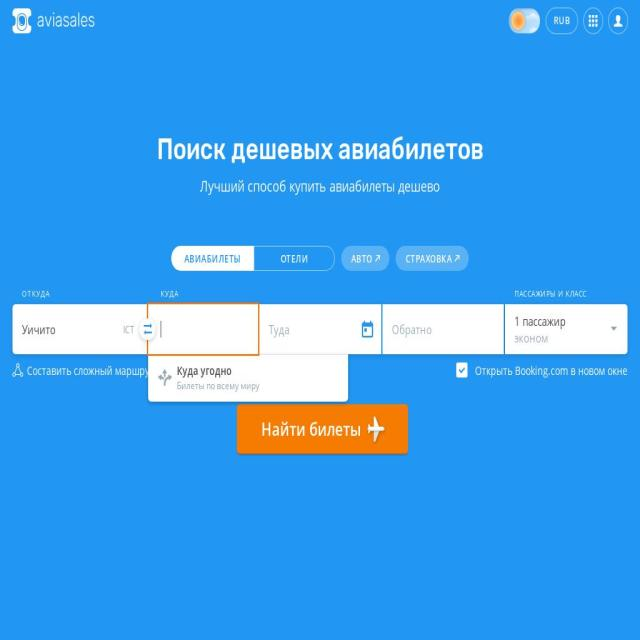button: (236, 404, 408, 454), (13, 362, 154, 379), (170, 245, 254, 271), (12, 8, 94, 34), (254, 245, 335, 271), (395, 245, 469, 271), (340, 245, 390, 271), (546, 8, 578, 34), (584, 8, 602, 34)
field: (12, 304, 148, 354), (259, 304, 382, 354), (382, 304, 504, 354), (148, 304, 259, 354)
heading: (12, 128, 628, 169)
image: (37, 12, 94, 26), (364, 414, 387, 444), (608, 8, 628, 34), (13, 8, 32, 34), (584, 8, 602, 34), (508, 8, 523, 26), (158, 369, 173, 387), (143, 322, 152, 328), (143, 329, 152, 335)
label: (456, 362, 628, 379), (22, 284, 50, 303), (160, 284, 180, 303)
text: (12, 175, 628, 196), (261, 417, 361, 439), (514, 328, 618, 346), (514, 312, 618, 329), (177, 378, 289, 393), (177, 362, 232, 378), (514, 287, 587, 299), (123, 303, 135, 349), (553, 14, 571, 28)
